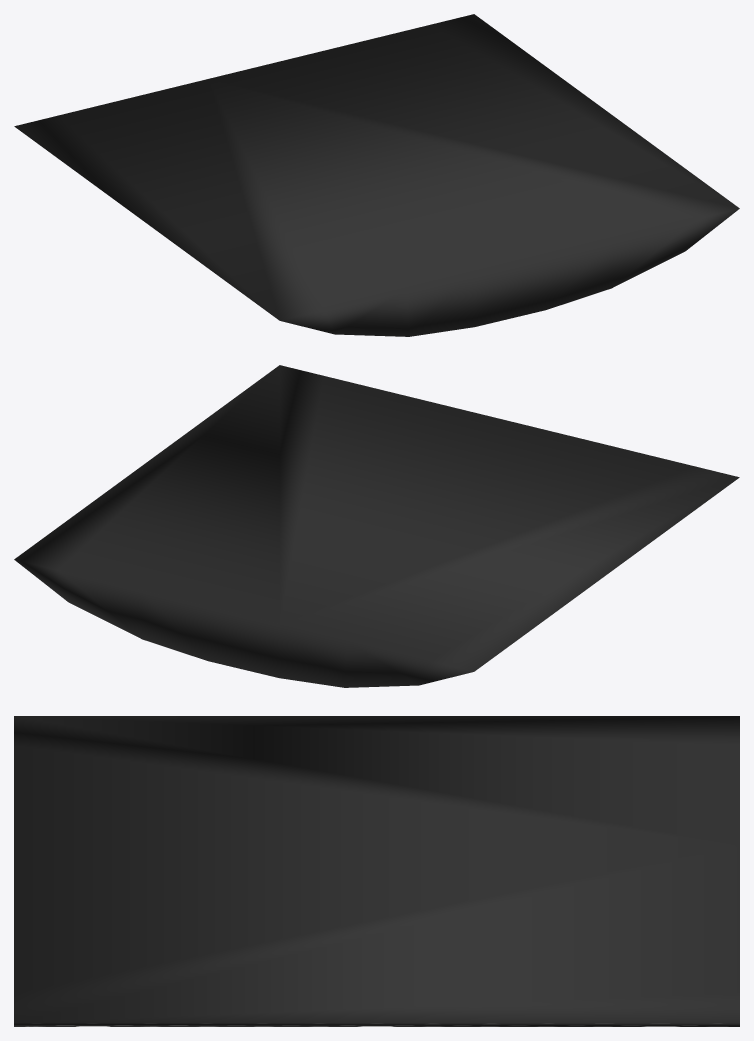
File: SpeedBump1.fbx
3 renders of one model, top to bottom at view 1: azimuth 30°, elevation 25°; view 2: azimuth 150°, elevation 25°; view 3: azimuth 270°, elevation 25°, orthographic. The views are drawn at different scales.
Parts seen in each view (by area): view 1: Speedbump; view 2: Speedbump; view 3: Speedbump.
Boxes of the visible parts, x1,y1,x2,y2 form: Speedbump: [14, 14, 739, 336]; Speedbump: [14, 365, 739, 687]; Speedbump: [14, 716, 739, 1026].
Bounding box in the file's own units: 49.9 × 49.9 × 5.62.
Materials: 1 (1 with a texture image).
